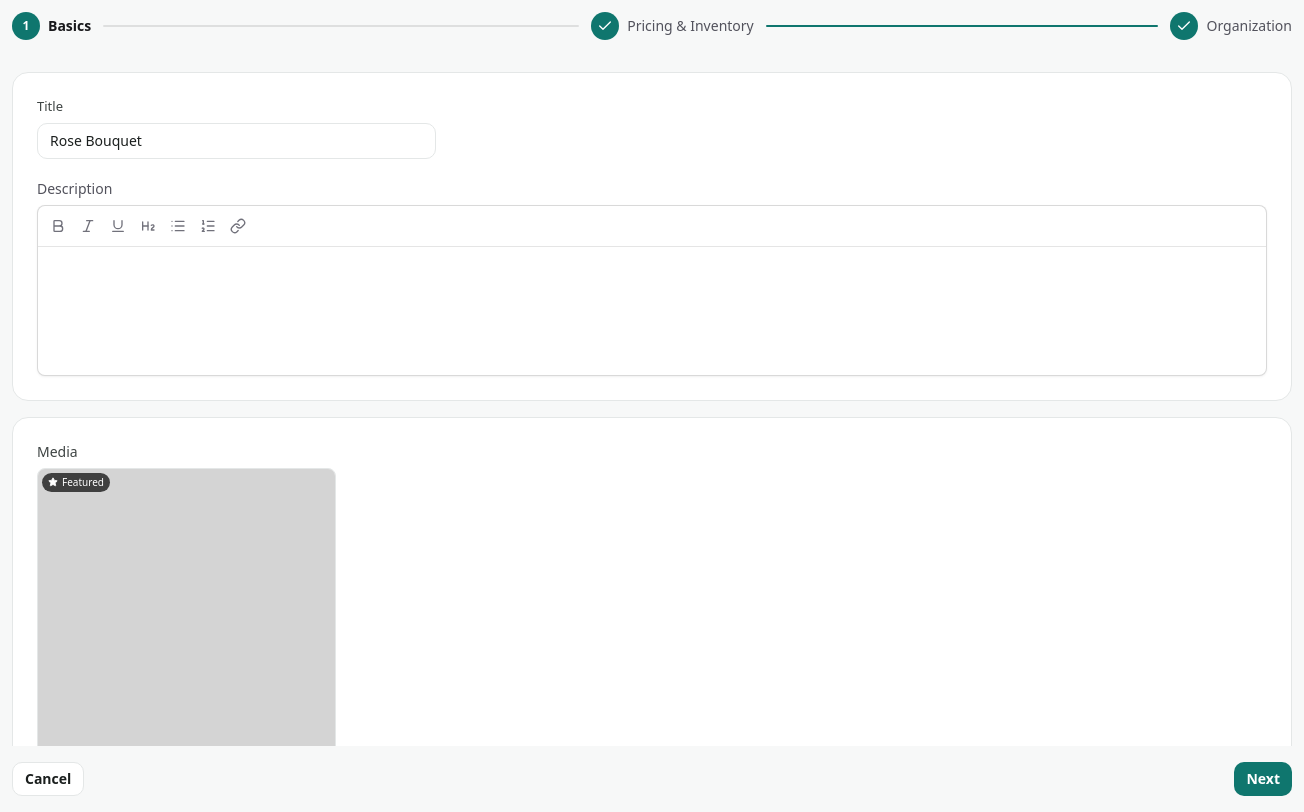
Test: ProductForm wizard › clicking a completed stepper circle navigates to that step
Click the button "Organization" at (1231, 26), box [1170,12,1292,40]
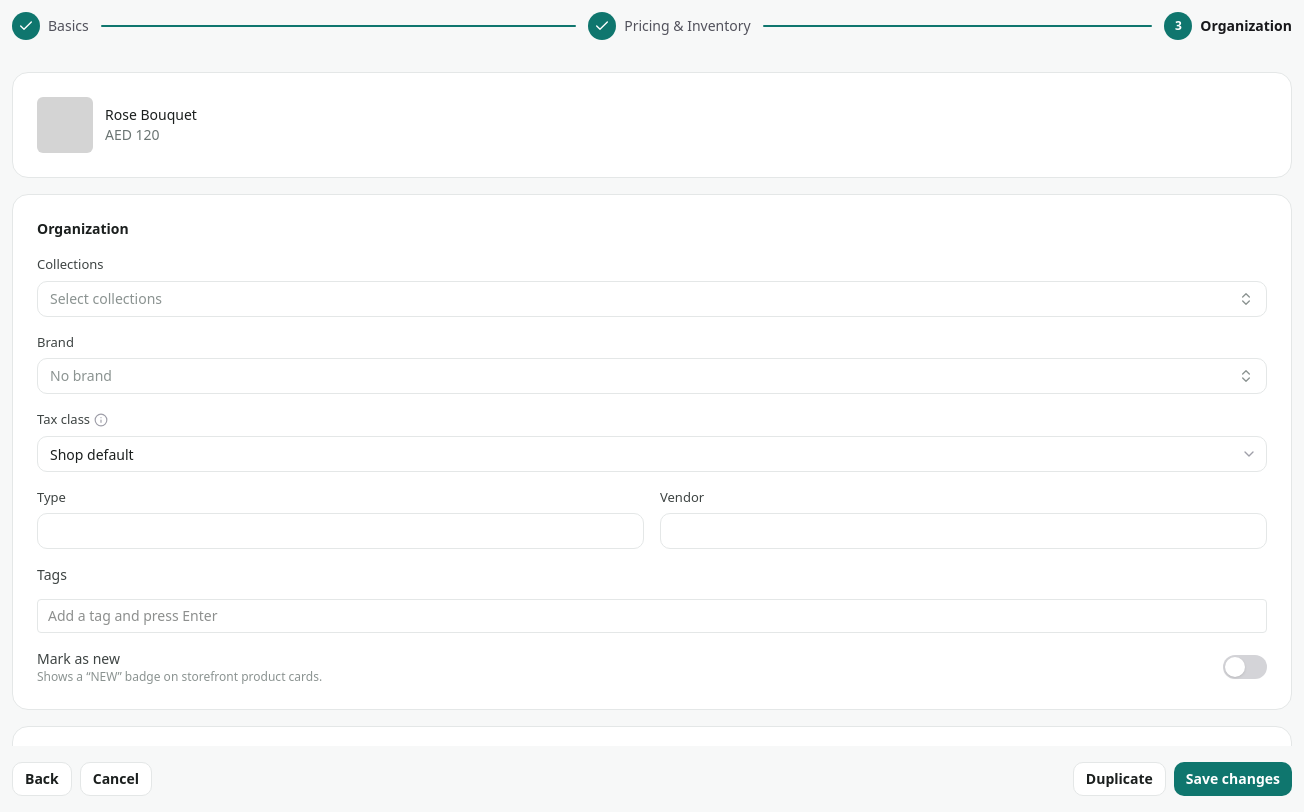
Now the button "Save changes" is shown, box [1174,762,1292,796]
Now the text "Rose Bouquet" is shown, box [105,105,197,125]
